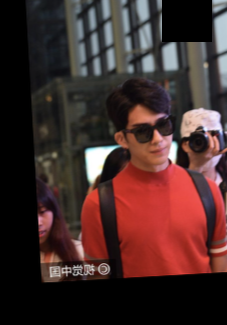without_mask: (125, 114, 173, 165), (38, 203, 53, 243)
